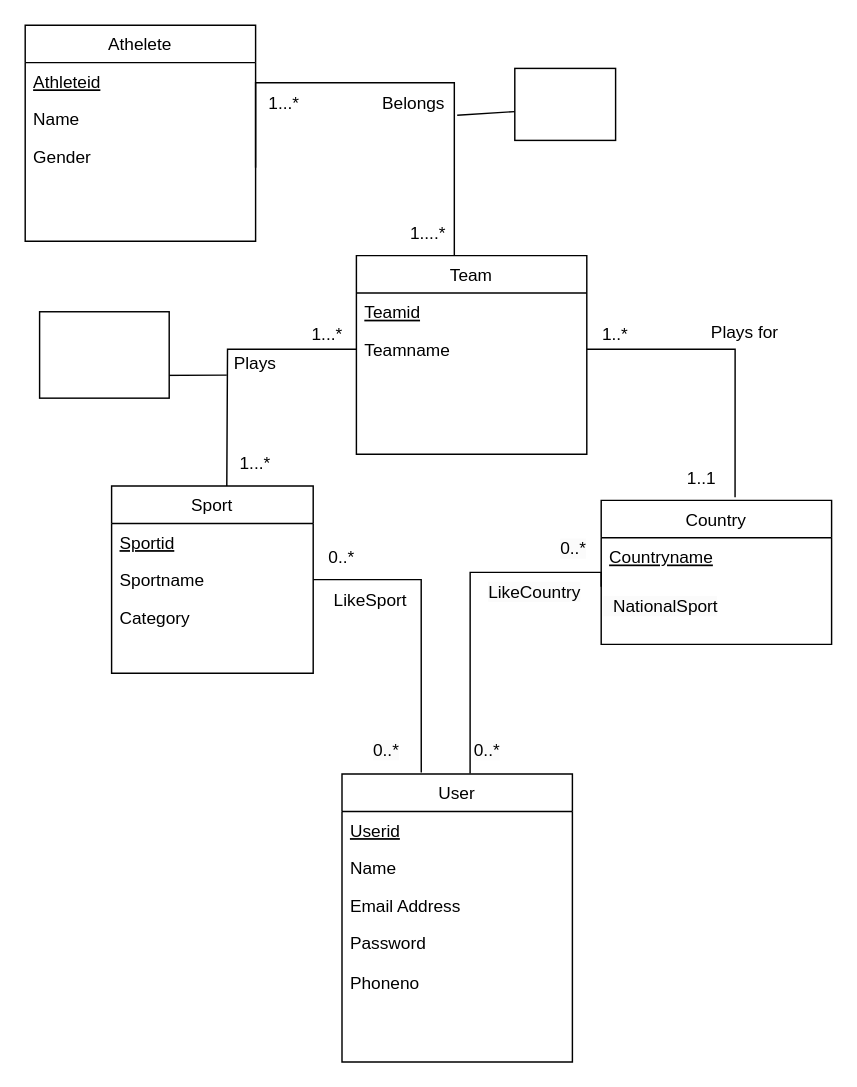
The diagram is 857 pixels wide and 1087 high, and some of its shapes have lost their labels. The shapes that lost their labels are listed below. From the top down, each one's centre as x and y in pixels, then its label:
At point 564,103: "Role".
At point 103,354: "Position".
